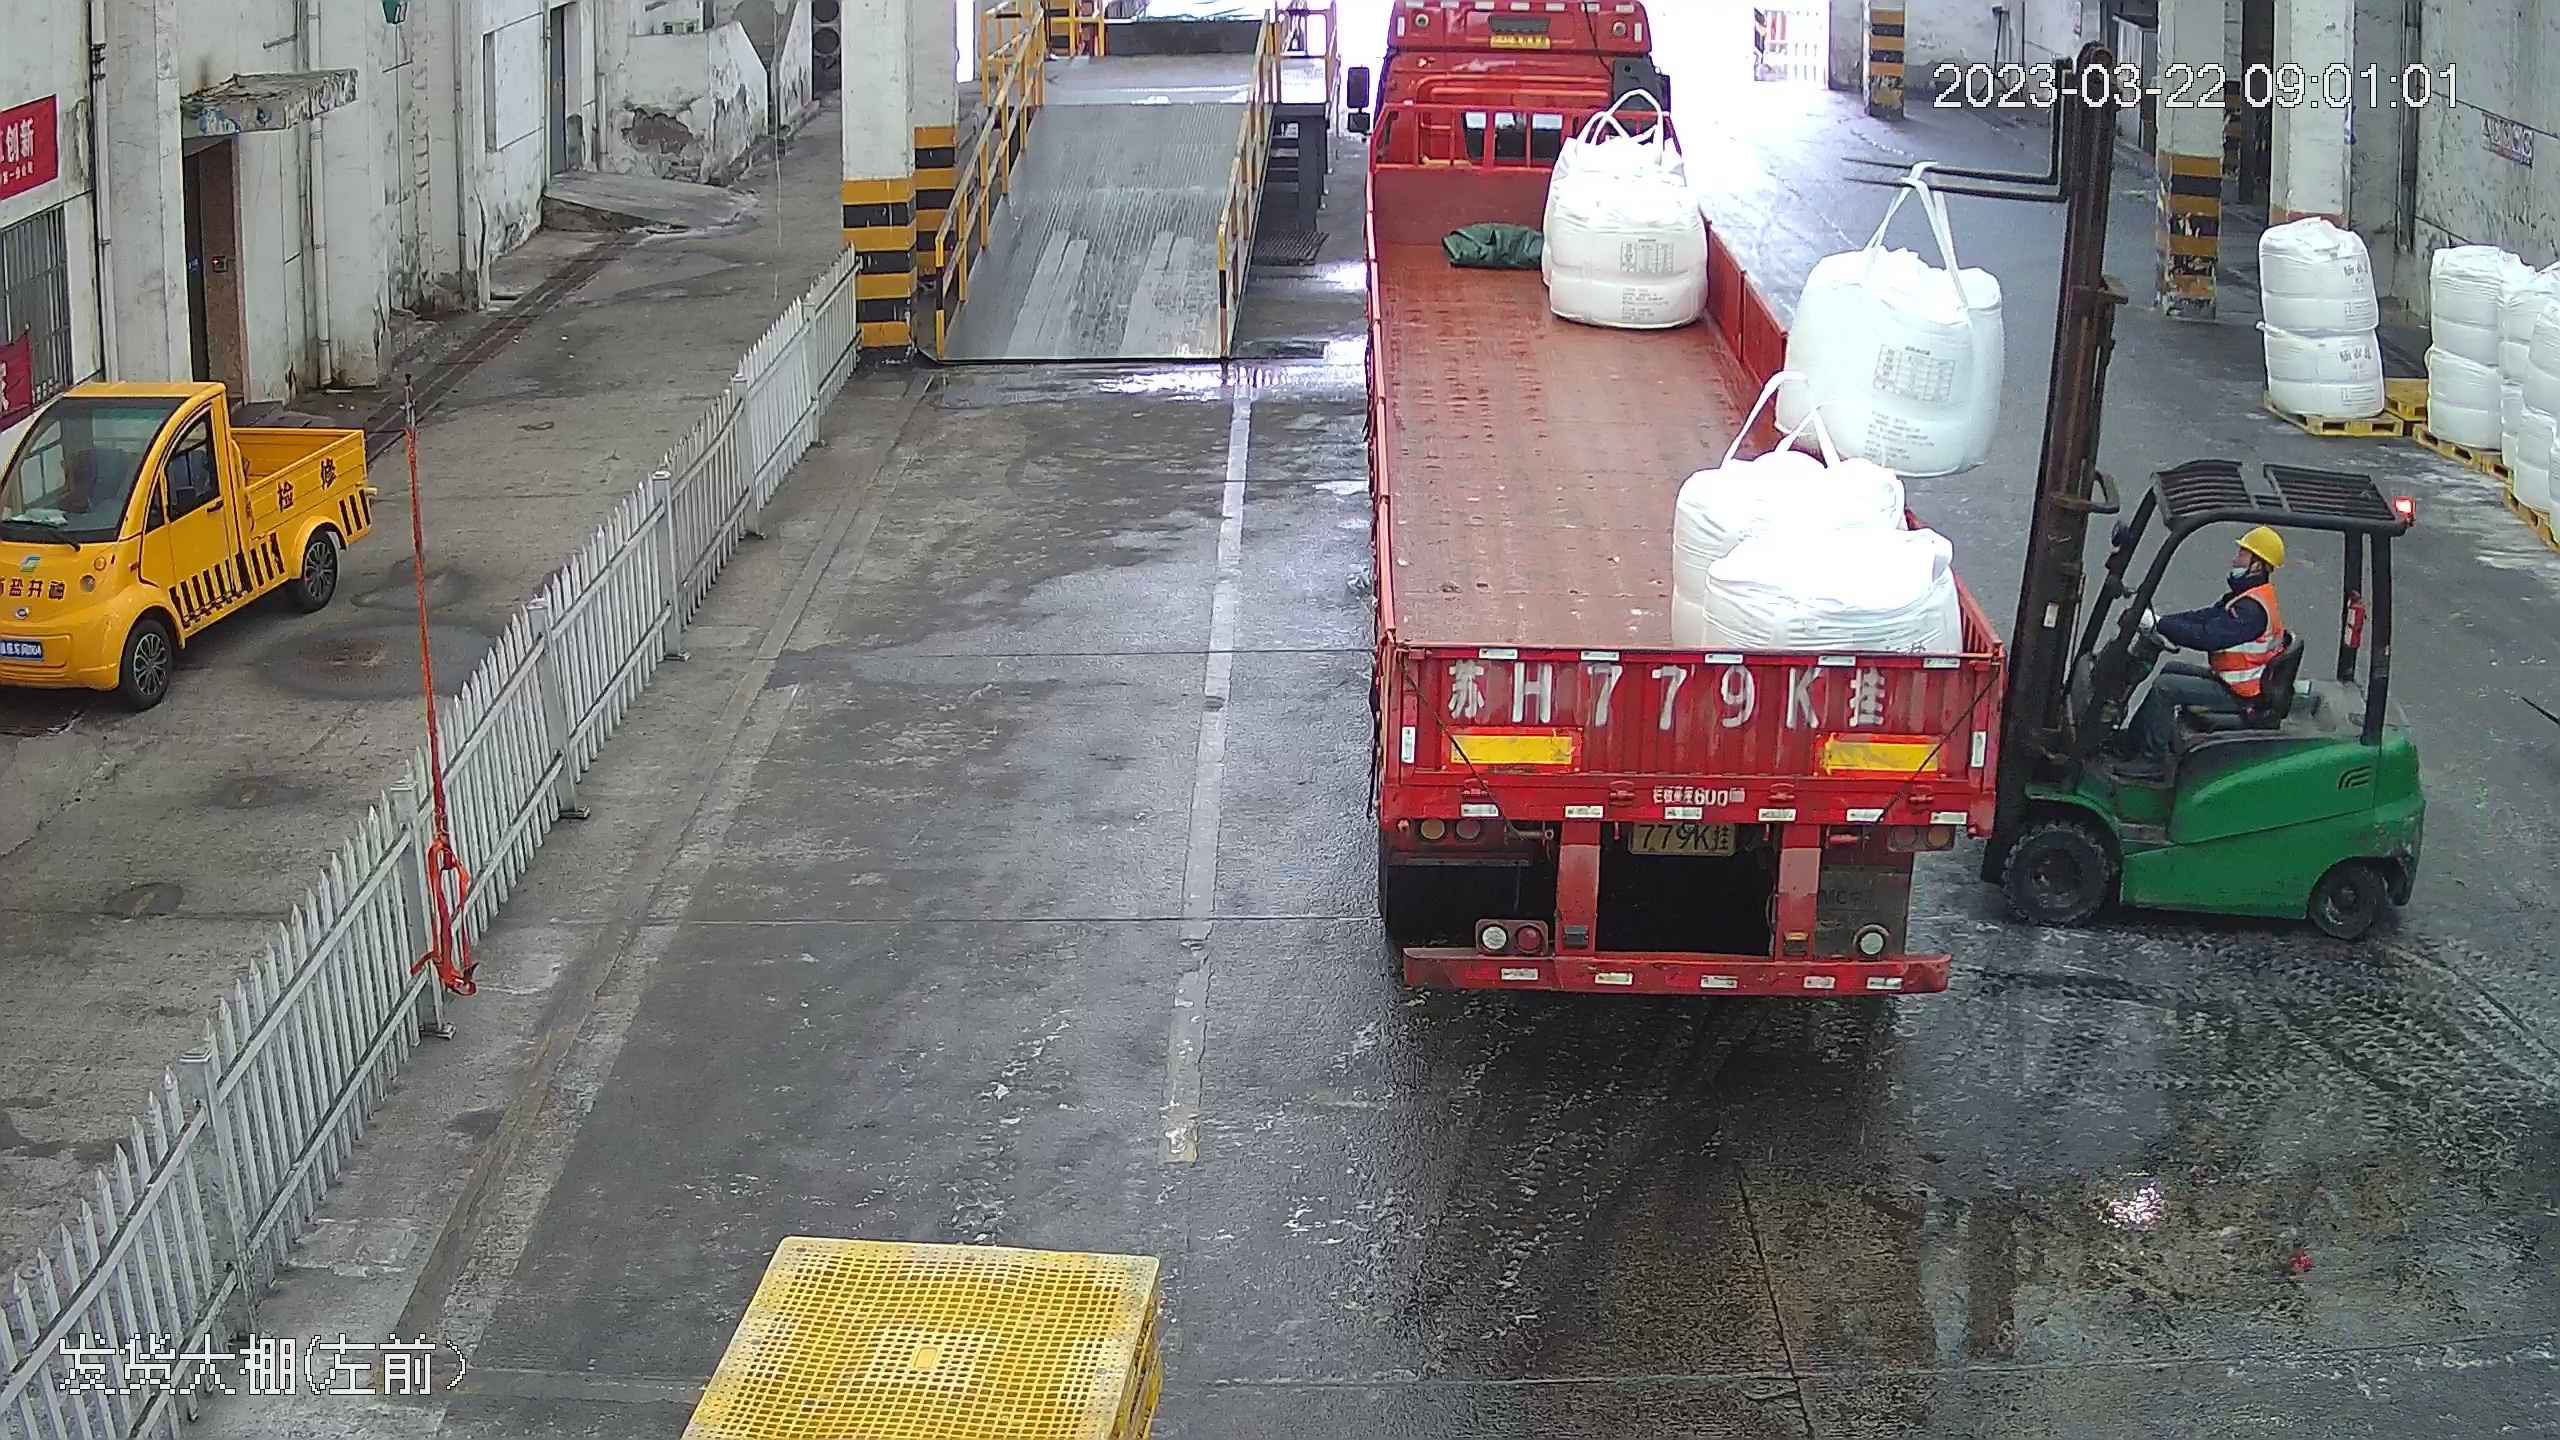head: (2213, 524, 2286, 628)
helmet: (2233, 525, 2283, 566)
people: (2114, 523, 2285, 758)
truck: (1337, 1, 2024, 999)
